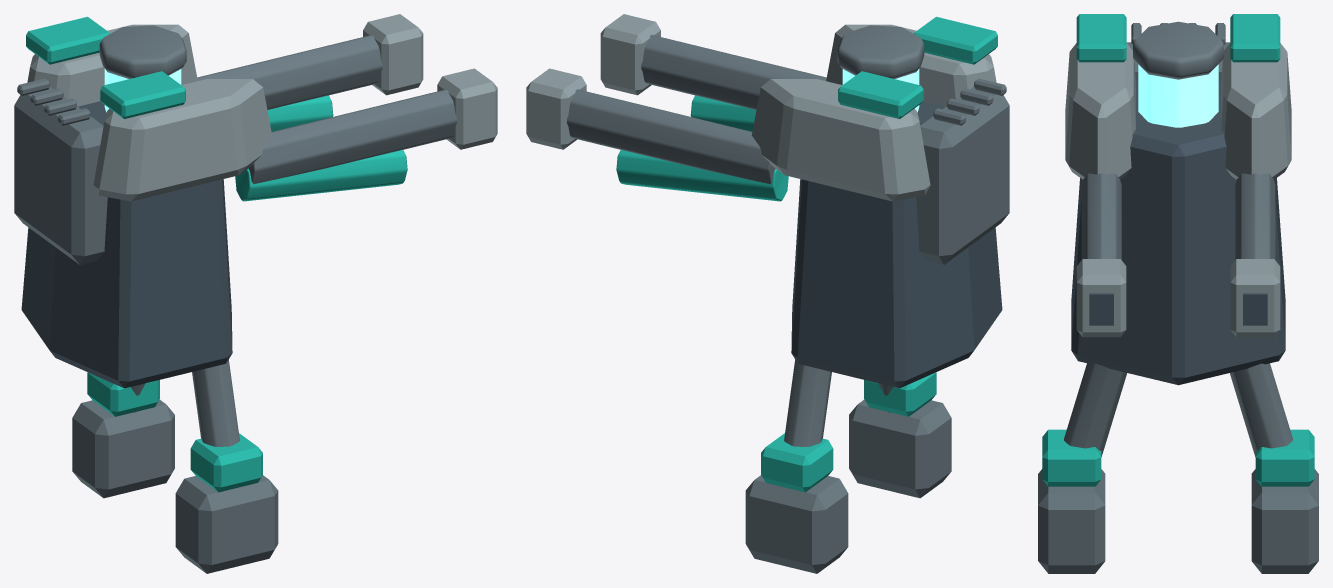
File: SM_Needle.fbx
The picture shows the model from 3 angles, left to right: view 1: azimuth 30°, elevation 25°; view 2: azimuth 150°, elevation 25°; view 3: azimuth 270°, elevation 25°; orthographic projection. The views are drawn at different scales.
Visible parts, largest first — view 1: SM_Needle; view 2: SM_Needle; view 3: SM_Needle.
Boxes of the visible parts, x1,y1,x2,y2 form: SM_Needle: (14, 14, 497, 573); SM_Needle: (526, 14, 1009, 573); SM_Needle: (1038, 14, 1318, 573).
Size of the model in its own units: 42 by 23.81 by 47.
